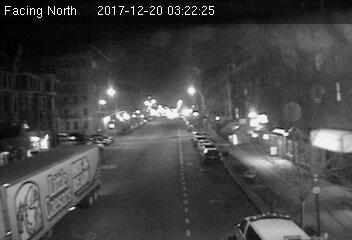police: (231, 209, 313, 240)
